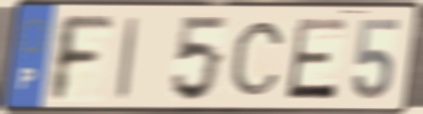5: (170, 13, 233, 104), (349, 15, 401, 103)
C: (228, 19, 287, 99)
E: (282, 15, 350, 102)
F: (50, 12, 116, 105)
I: (114, 13, 142, 103)
